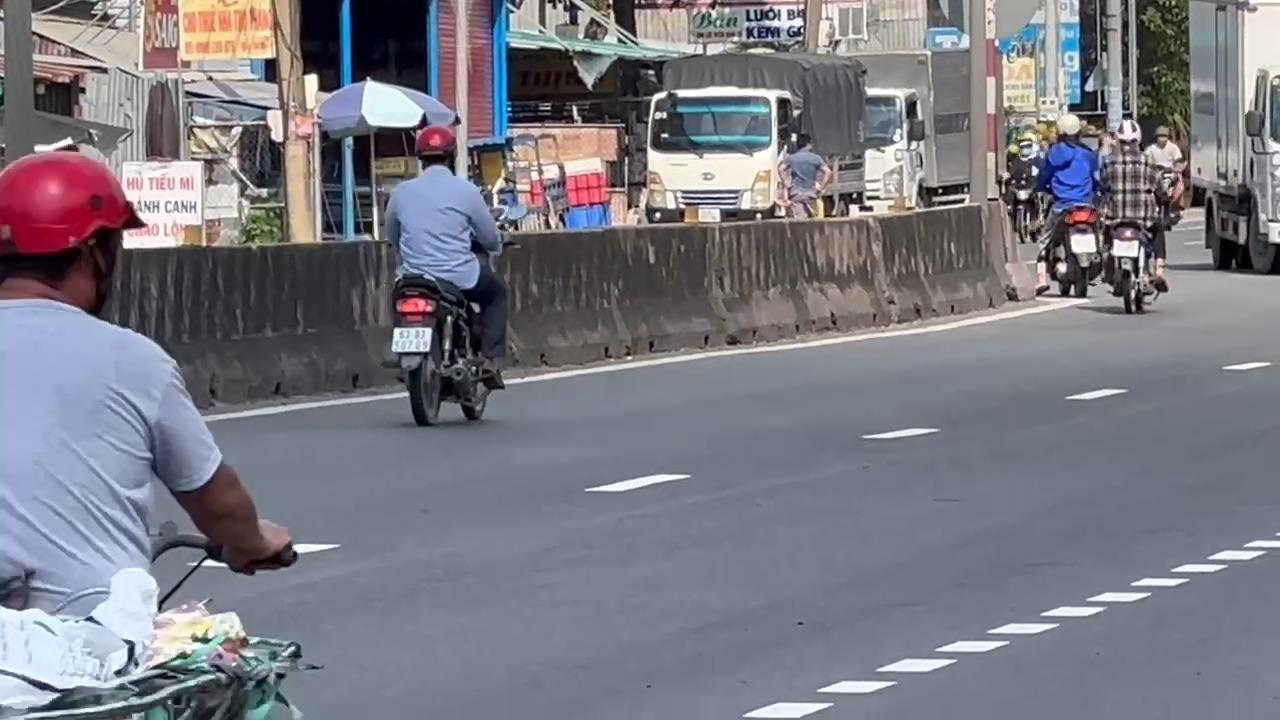bien_so: (390, 326, 432, 354)
